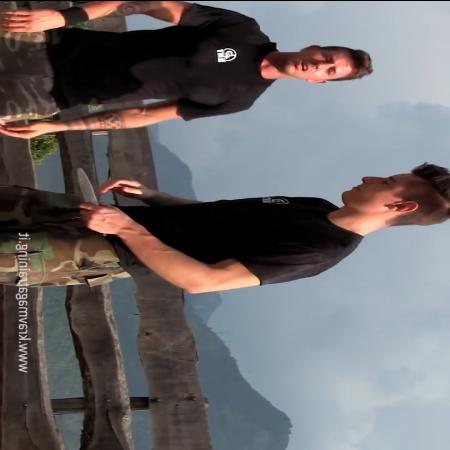long weapon: (68, 163, 115, 237)
